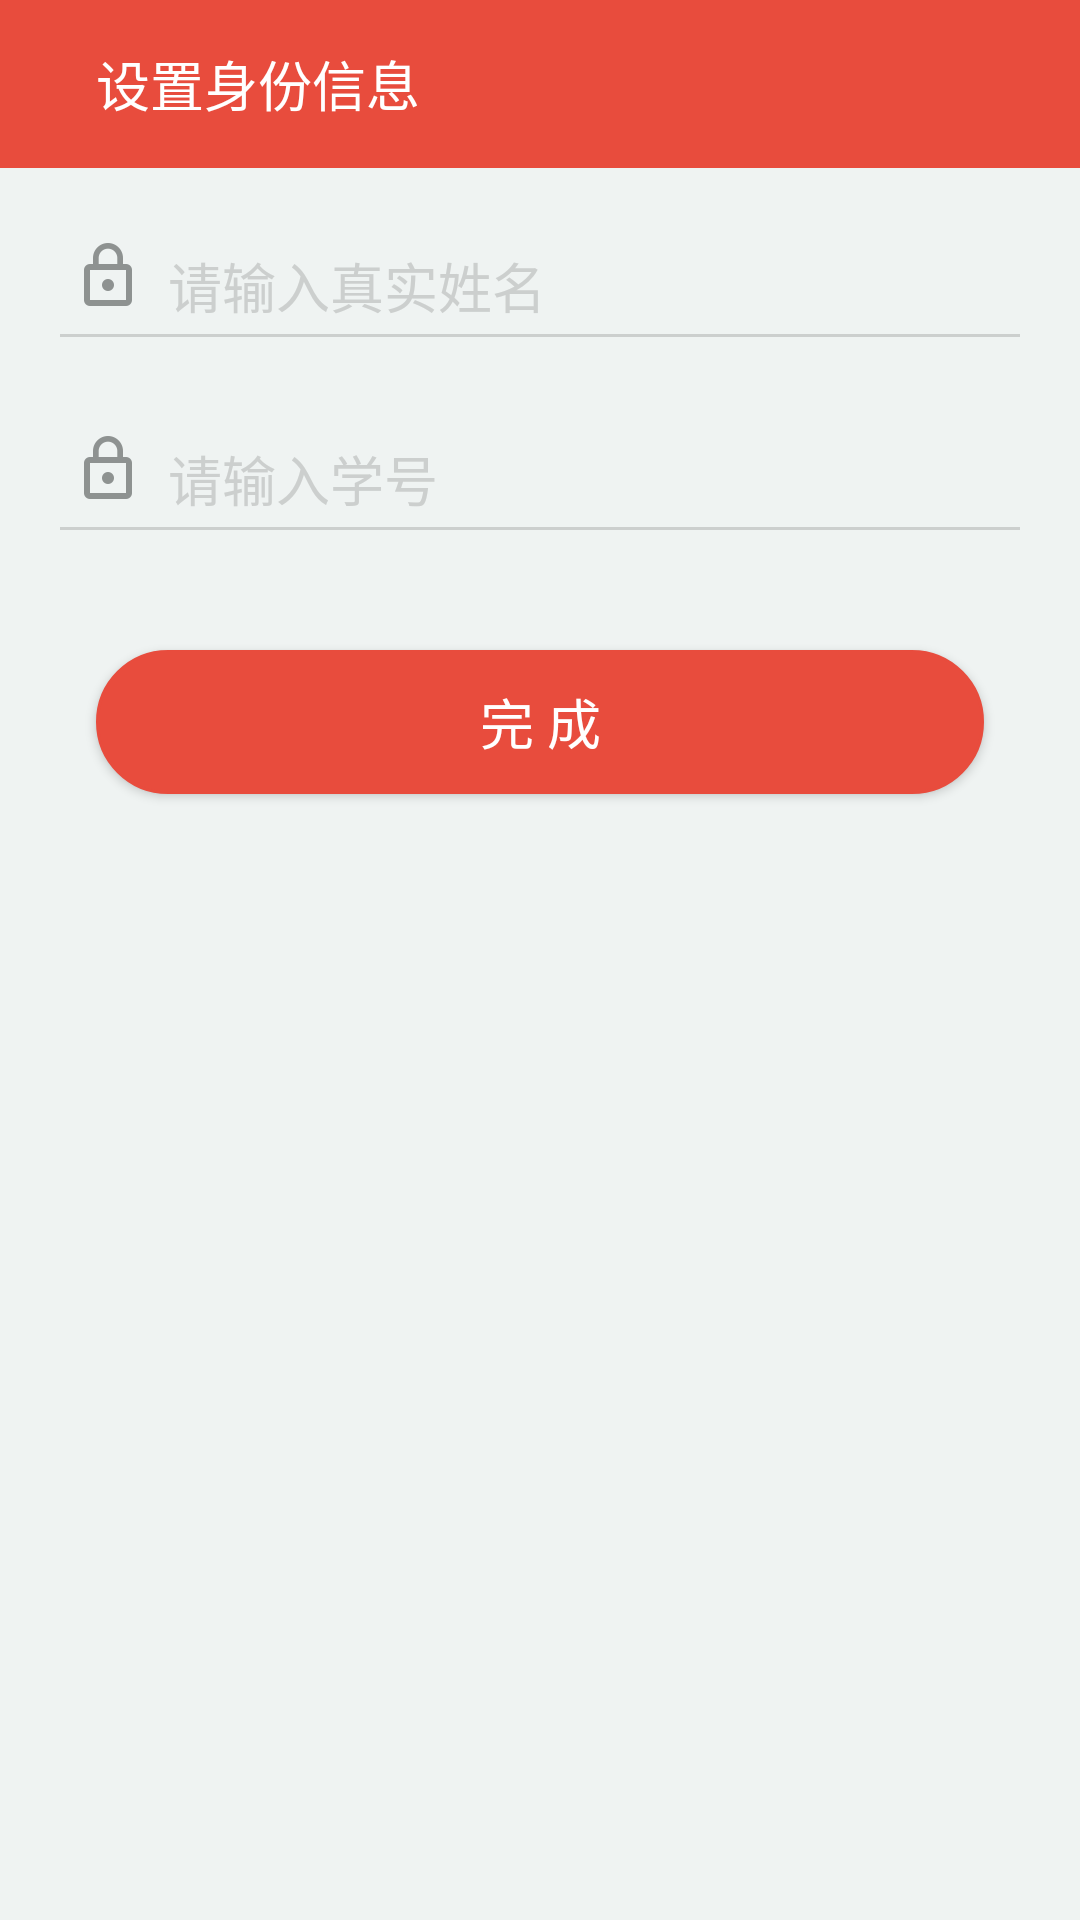

Named icons in this screenshot (1080 x 1920) and their bounding boxes, {"x1": x1, "y1": y1, "x2": x2, "y2": y2}:
lock: {"x1": 84, "y1": 243, "x2": 132, "y2": 306}, {"x1": 84, "y1": 436, "x2": 132, "y2": 499}
